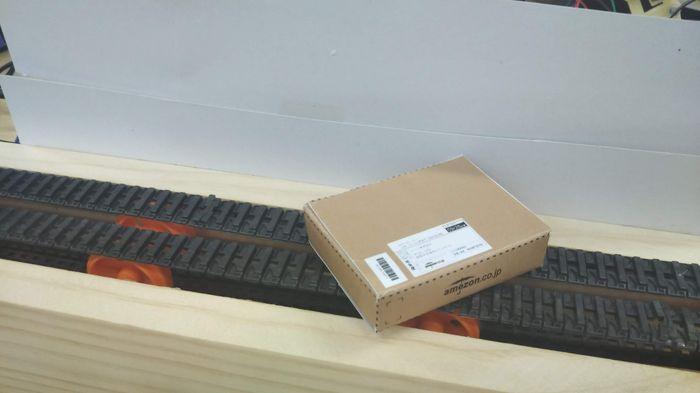box2: (301, 151, 548, 331)
